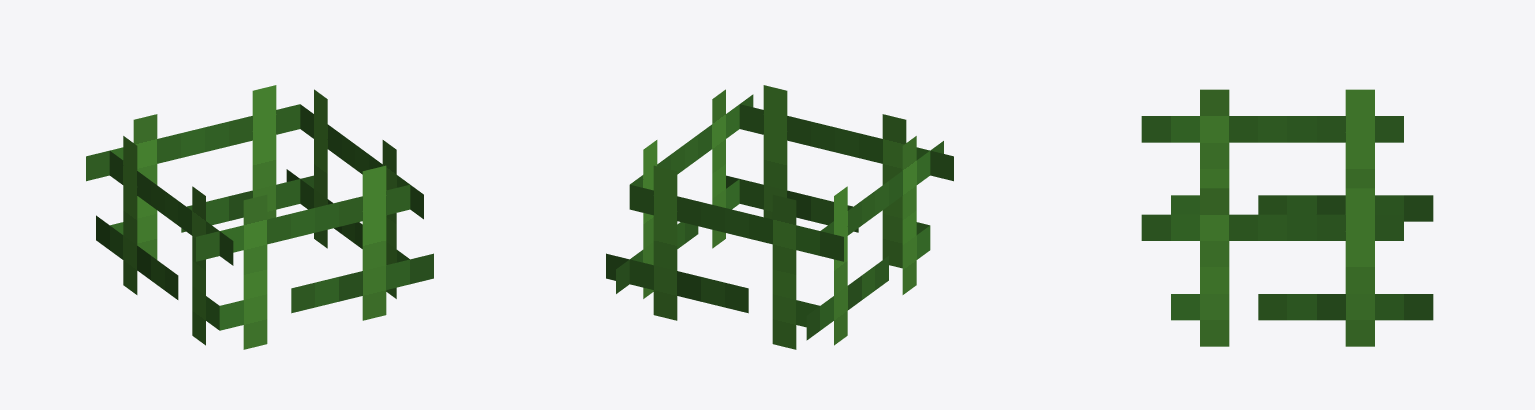
File: melon_stem_1.gltf
3 views of the same model, side by side, from view 1: azimuth 30°, elevation 25°; view 2: azimuth 150°, elevation 25°; view 3: azimuth 270°, elevation 25° (orthographic). The views are drawn at different scales.
Visible parts, largest first — view 1: melon_stem_1; view 2: melon_stem_1; view 3: melon_stem_1.
Part boxes in pixels (x1,y1,x2,y2): melon_stem_1: [86, 85, 433, 349]; melon_stem_1: [606, 85, 953, 349]; melon_stem_1: [1141, 89, 1433, 346].
Size of the model in its own units: 1 by 0.4375 by 1.
1 material, 1 textured.
